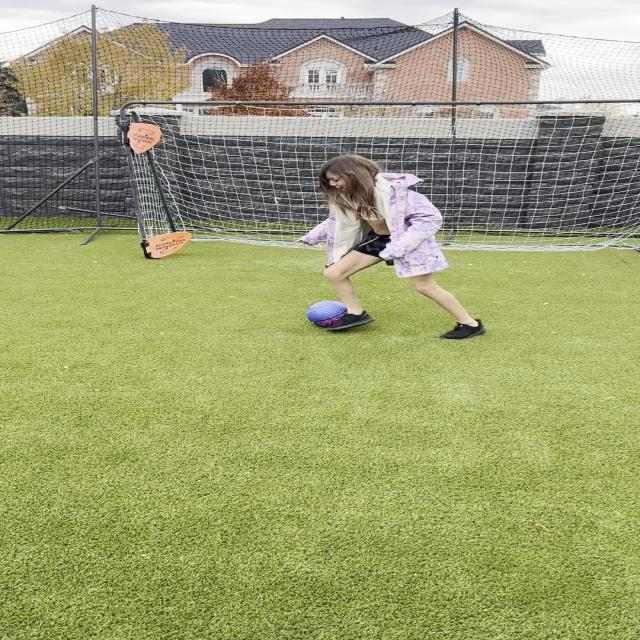Soccer Ball: (306, 300, 351, 327)
